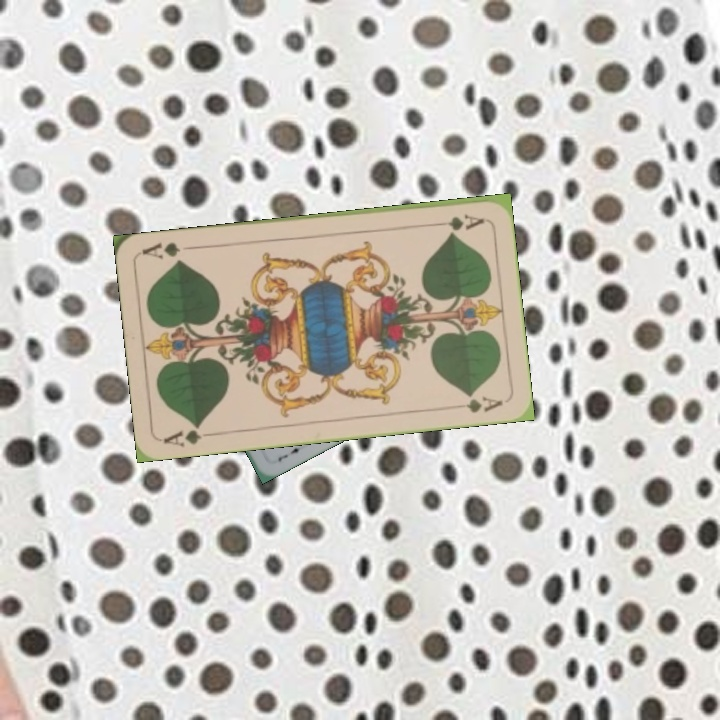E7: (274, 444, 306, 464)
GA: (159, 420, 219, 450), (428, 209, 487, 233)
